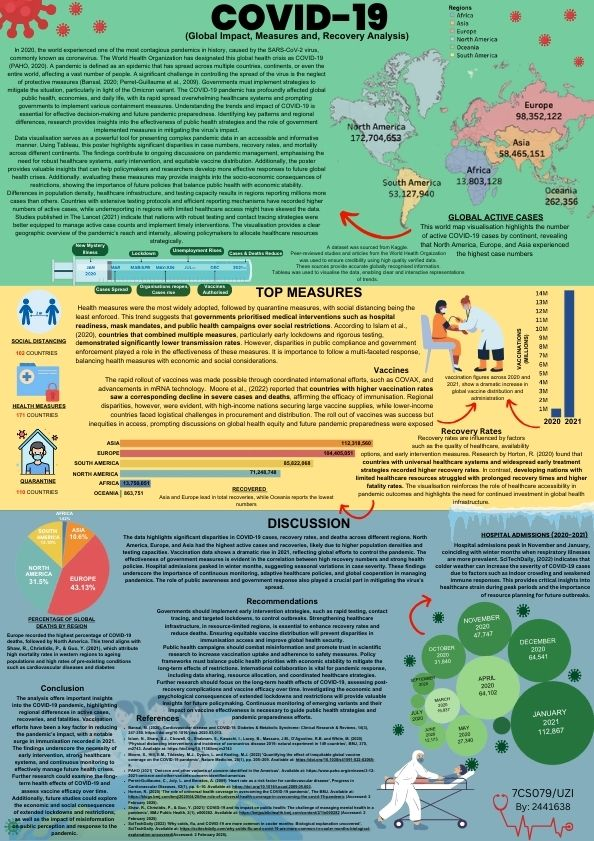

The dashboard page shown, as its layout file describes it:
{"tool":"tableau","page":{"name":"Dashboard 1","canvas":[1000,800],"ordinal":0},"visuals":[{"type":"worksheet","title":"Total Global Deaths","mark":"Automatic","box":[8,8,412,196]},{"type":"worksheet","title":"Global Active Cases","mark":"Multipolygon","box":[420,8,412,392]},{"type":"legend","title":"Recovered","param":"[federated.0gr4uz91jhr7zn10f3xg01l09h94].[Europe]","box":[832,8,160,144]},{"type":"legend","title":"HospitalAdmissions (UK&I)","param":"[federated.0oqjq5e0jl8bkl142l5om1952817].[tmn:date (PatientNewAdmissions.csv):ok","box":[832,152,160,271]},{"type":"worksheet","title":"Measurers Implemented by countries","mark":"Square","rows":["CATEGORY"],"box":[8,204,412,196]},{"type":"worksheet","title":"Global Deaths (Regional Percentages)","mark":"Pie","box":[8,400,412,392]},{"type":"worksheet","title":"Recovered","mark":"Automatic","cols":["Recovered"],"box":[420,400,412,196]},{"type":"worksheet","title":"Vaccination Counts (UK&I)","mark":"Bar","rows":["weeklyPeopleVaccinatedFirstDoseByVaccinationDate"],"cols":["date (Vaccinations.csv)"],"box":[832,423,160,304]},{"type":"worksheet","title":"HospitalAdmissions (UK&I)","mark":"Circle","box":[420,596,412,196]},{"type":"legend","title":"Measurers Implemented by countries","param":"[federated.0gr4uz91jhr7zn10f3xg01l09h94].[cnt:Measure:qk]","box":[832,727,160,65]}]}

Visuals, with their boxes on the page's 1000x800 design canvas (x1, y1, x2, y2). These are canvas units, not pixel positions in the 594x841 screenshot, which may show the page scaled, cropped or inside an application window:
"Total Global Deaths" worksheet: x1=8, y1=8, x2=420, y2=204
"Global Active Cases" worksheet (Multipolygon marks): x1=420, y1=8, x2=832, y2=400
"Recovered" legend: x1=832, y1=8, x2=992, y2=152
"HospitalAdmissions (UK&I)" legend: x1=832, y1=152, x2=992, y2=423
"Measurers Implemented by countries" worksheet (Square marks): x1=8, y1=204, x2=420, y2=400
"Global Deaths (Regional Percentages)" worksheet (Pie marks): x1=8, y1=400, x2=420, y2=792
"Recovered" worksheet: x1=420, y1=400, x2=832, y2=596
"Vaccination Counts (UK&I)" worksheet (Bar marks): x1=832, y1=423, x2=992, y2=727
"HospitalAdmissions (UK&I)" worksheet (Circle marks): x1=420, y1=596, x2=832, y2=792
"Measurers Implemented by countries" legend: x1=832, y1=727, x2=992, y2=792
